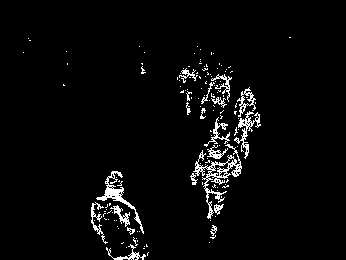person: (89, 167, 151, 260), (196, 122, 241, 239), (231, 89, 264, 159), (208, 69, 233, 128)
